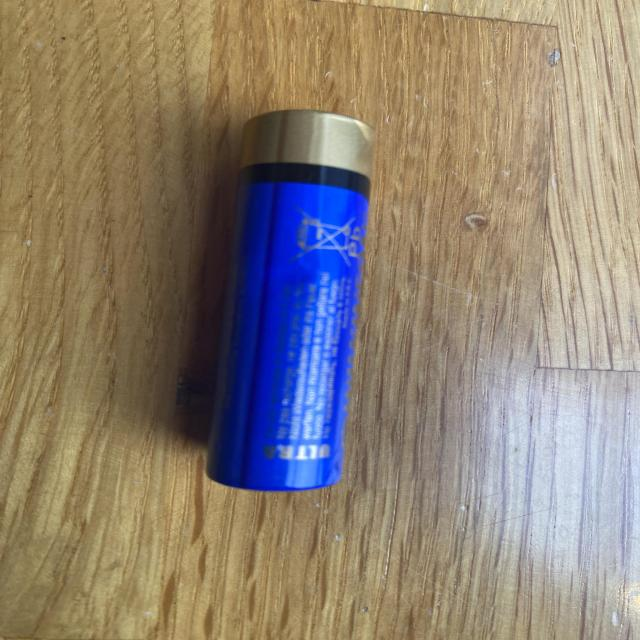AA: (200, 106, 384, 497)
